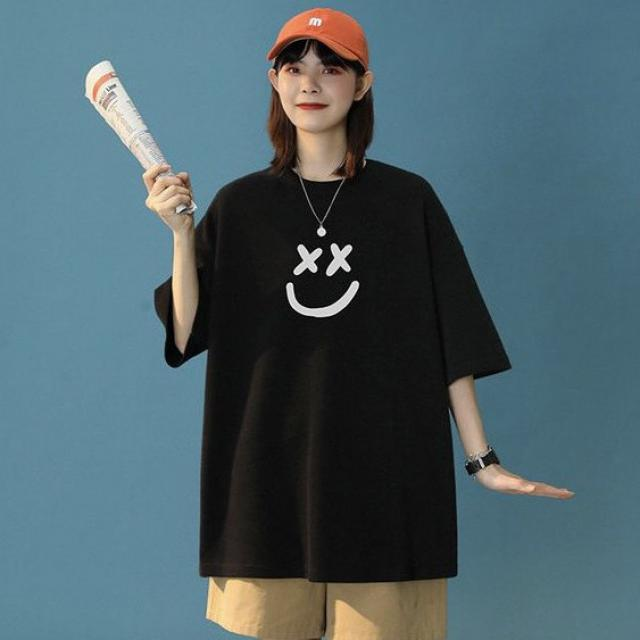Shirt: (154, 148, 526, 588)
